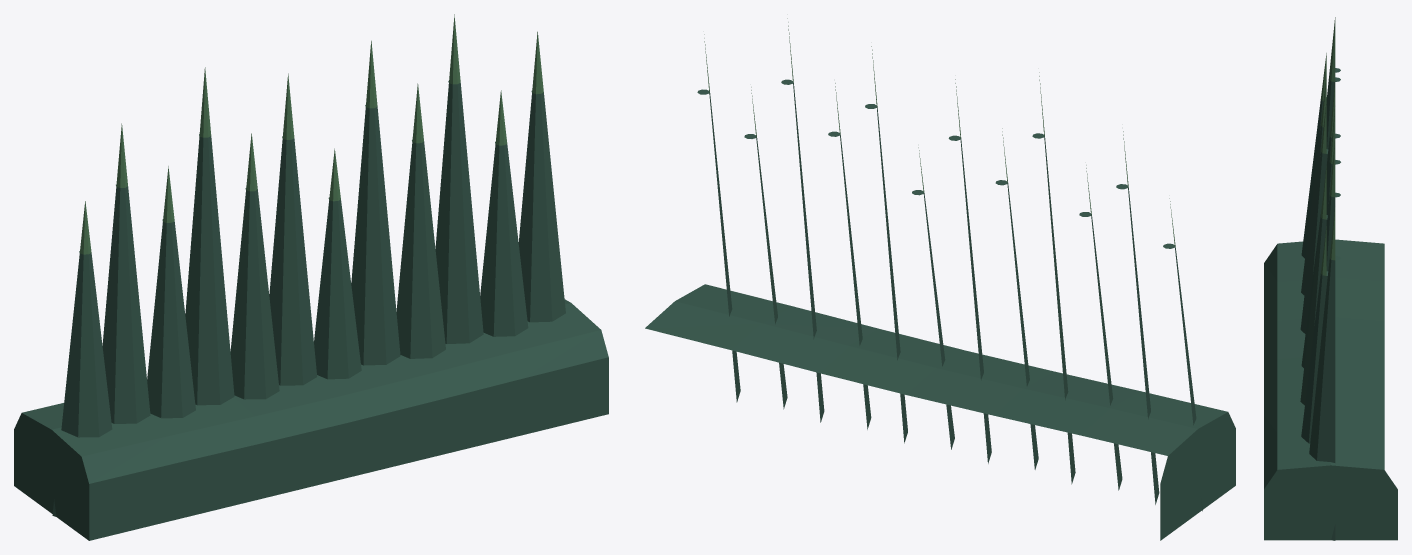
Rendered from edge_backdrop.glb.
3 views of the same model, side by side, from view 1: azimuth 30°, elevation 25°; view 2: azimuth 150°, elevation 25°; view 3: azimuth 270°, elevation 25° (orthographic). The views are drawn at different scales.
Visible parts, largest first — view 1: PineDark_Mesh, Pine_Mesh; view 2: PineDark_Mesh, Pine_Mesh; view 3: PineDark_Mesh, Pine_Mesh.
Boxes of the visible parts, box(x1,y1,x2,y2) form: PineDark_Mesh: box(14, 81, 608, 540); Pine_Mesh: box(80, 14, 543, 254); PineDark_Mesh: box(645, 79, 1235, 540); Pine_Mesh: box(704, 18, 1175, 246); PineDark_Mesh: box(1264, 68, 1397, 540); Pine_Mesh: box(1320, 17, 1335, 275).
Bounding box in the file's own units: 12.08 × 9 × 3.
